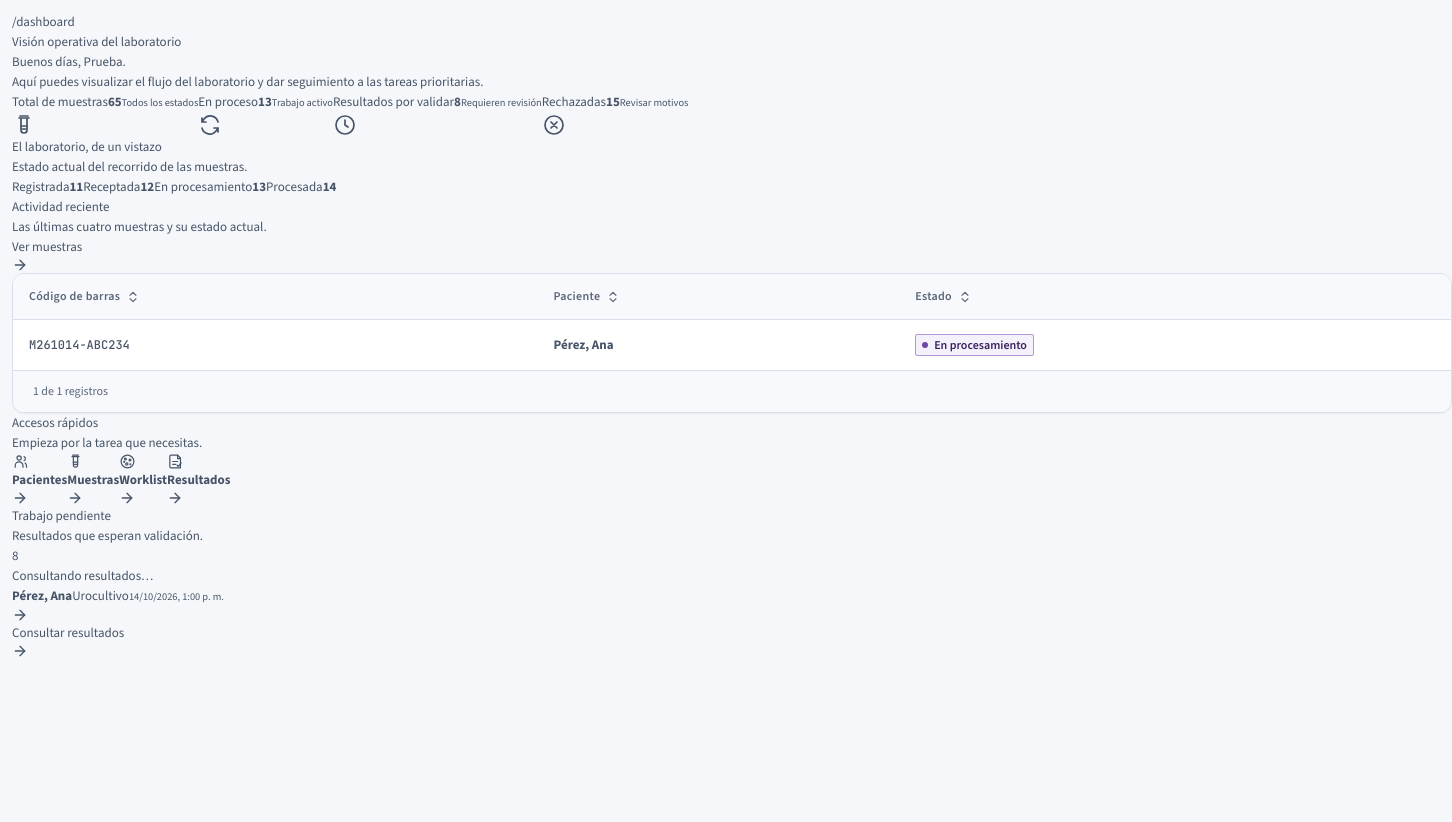
Navegación del Dashboard: ADMINISTRADOR › conserva los cinco conteos y solo permite navegar a recepción con permiso
The width and height of the screenshot is (1452, 822).
Expected: the text "15" is shown, [606,93,620,110]
Click the button "Registrada11" at (48, 187), box [12,177,83,197]
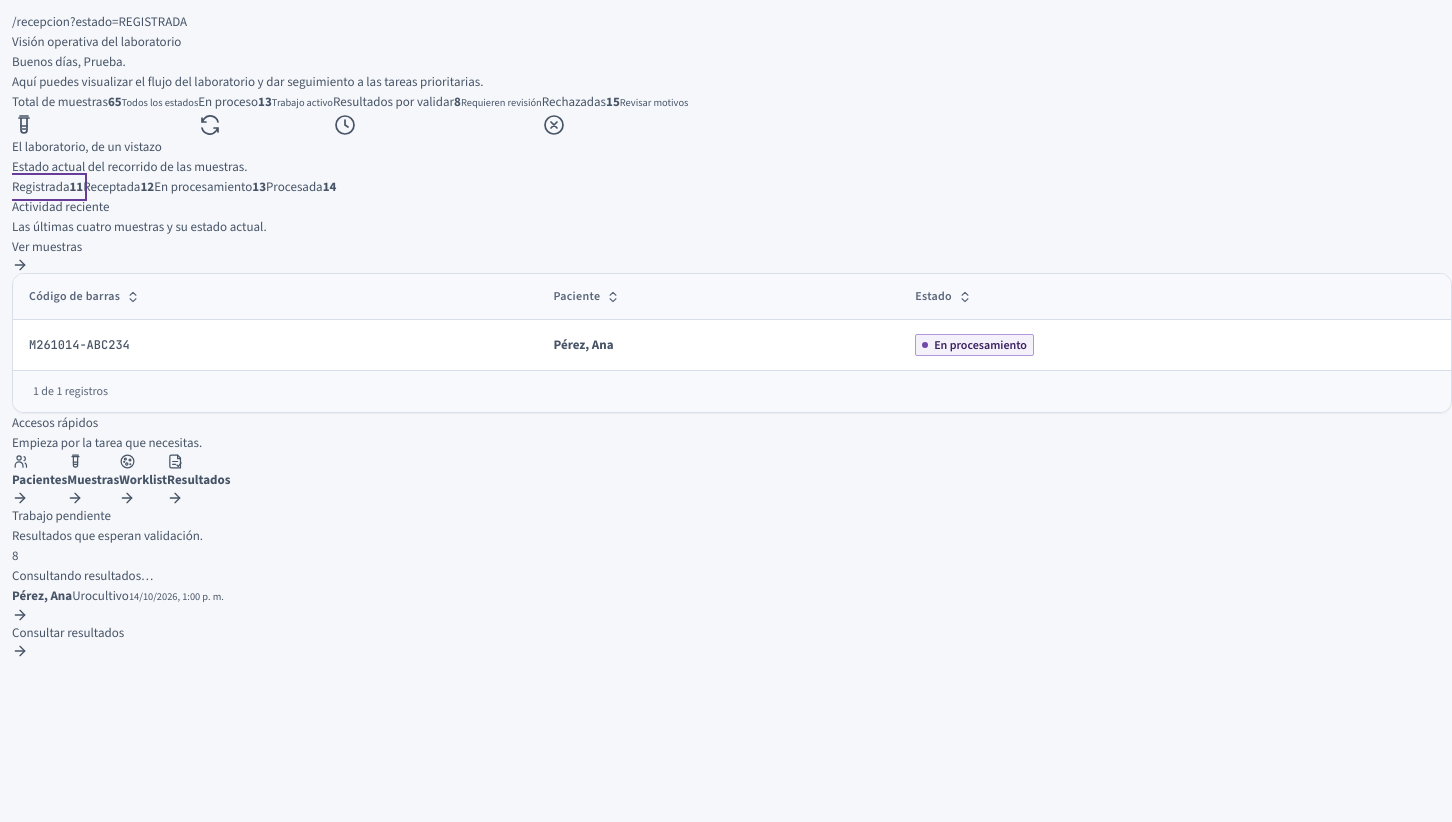
Expected: the text named "Ruta actual" reads "/recepcion?estado=REGISTRADA", [12,13,187,30]
Click the button "Receptada12" at (119, 187), box [83,177,154,197]
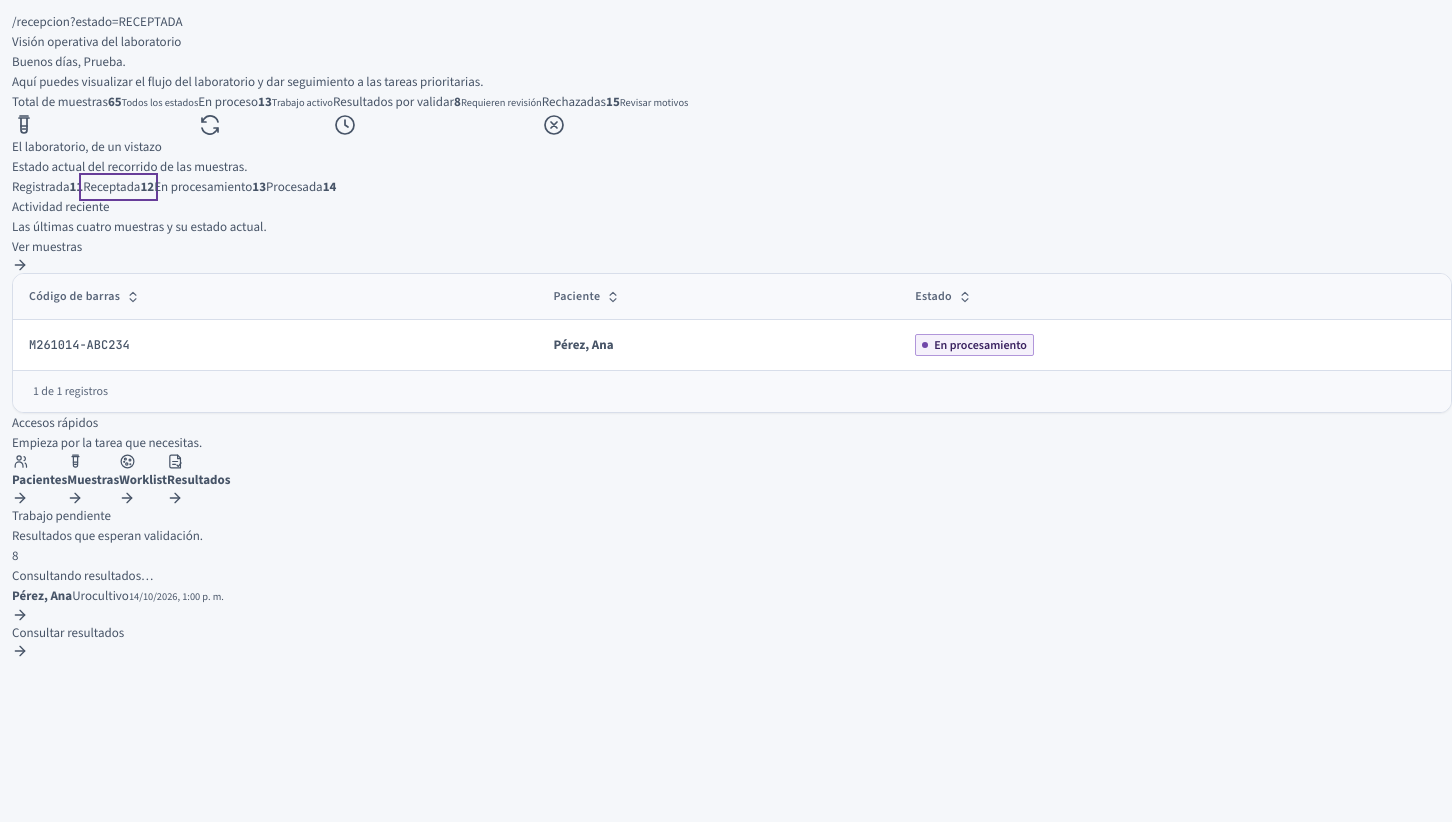
Click the button "En procesamiento13" at (210, 187), box [154,177,266,197]
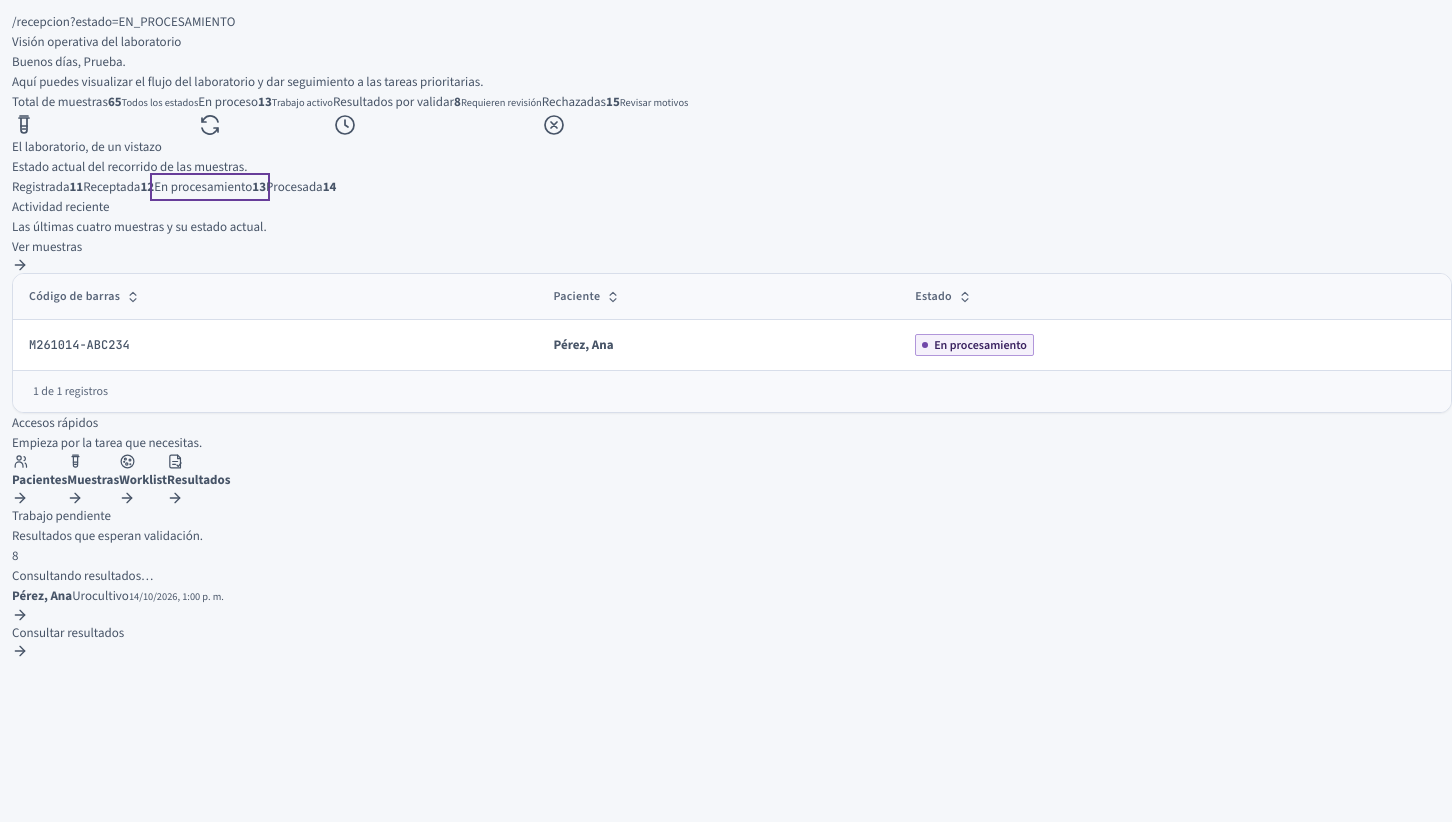
Expected: the text named "Ruta actual" reads "/recepcion?estado=EN_PROCESAMIENTO", [12,13,235,30]
Click the button "Procesada14" at (301, 187), box [266,177,336,197]
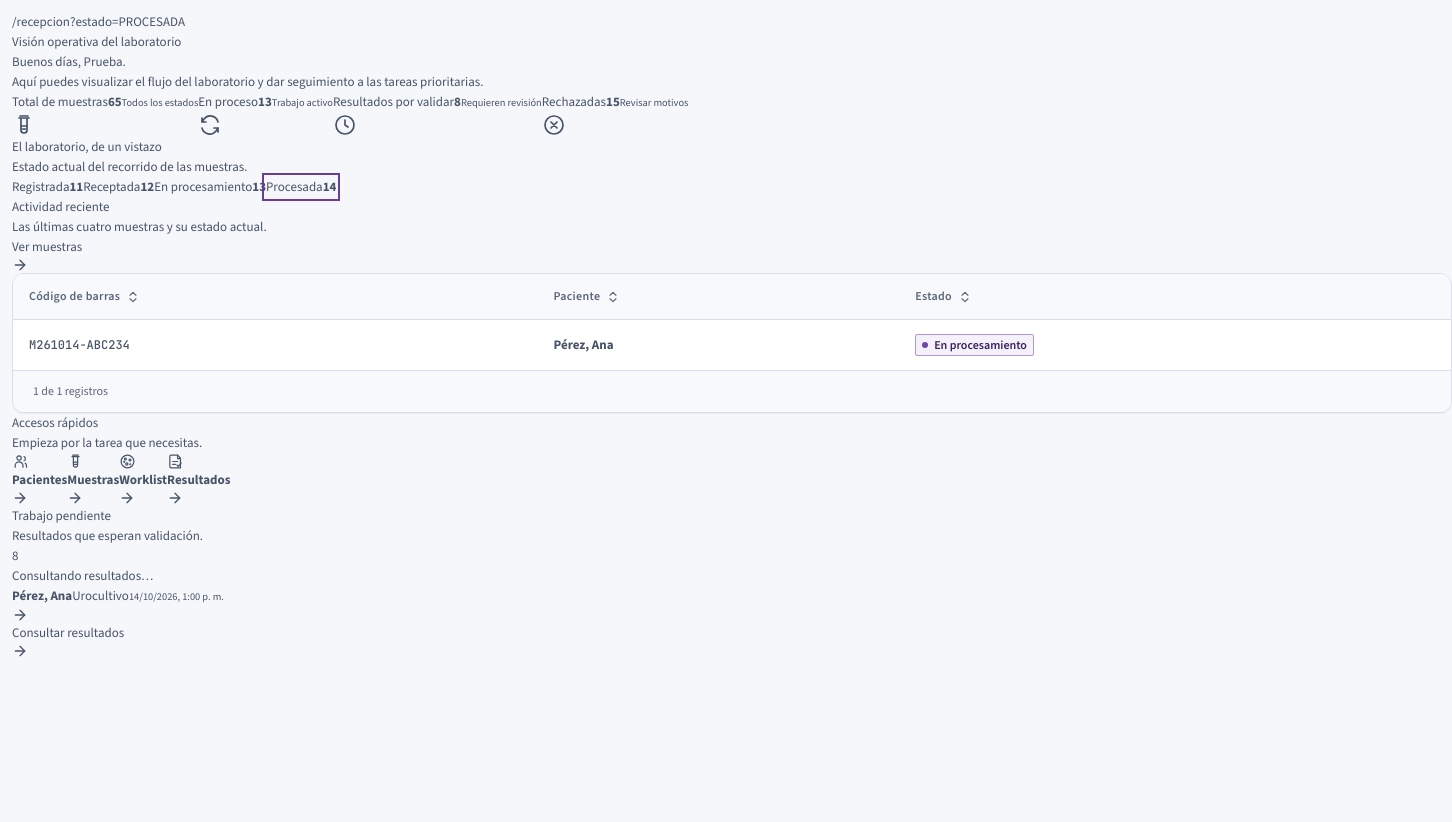
Click the button "Rechazadas15Revisar motivos" at (615, 114), box [542,92,688,137]
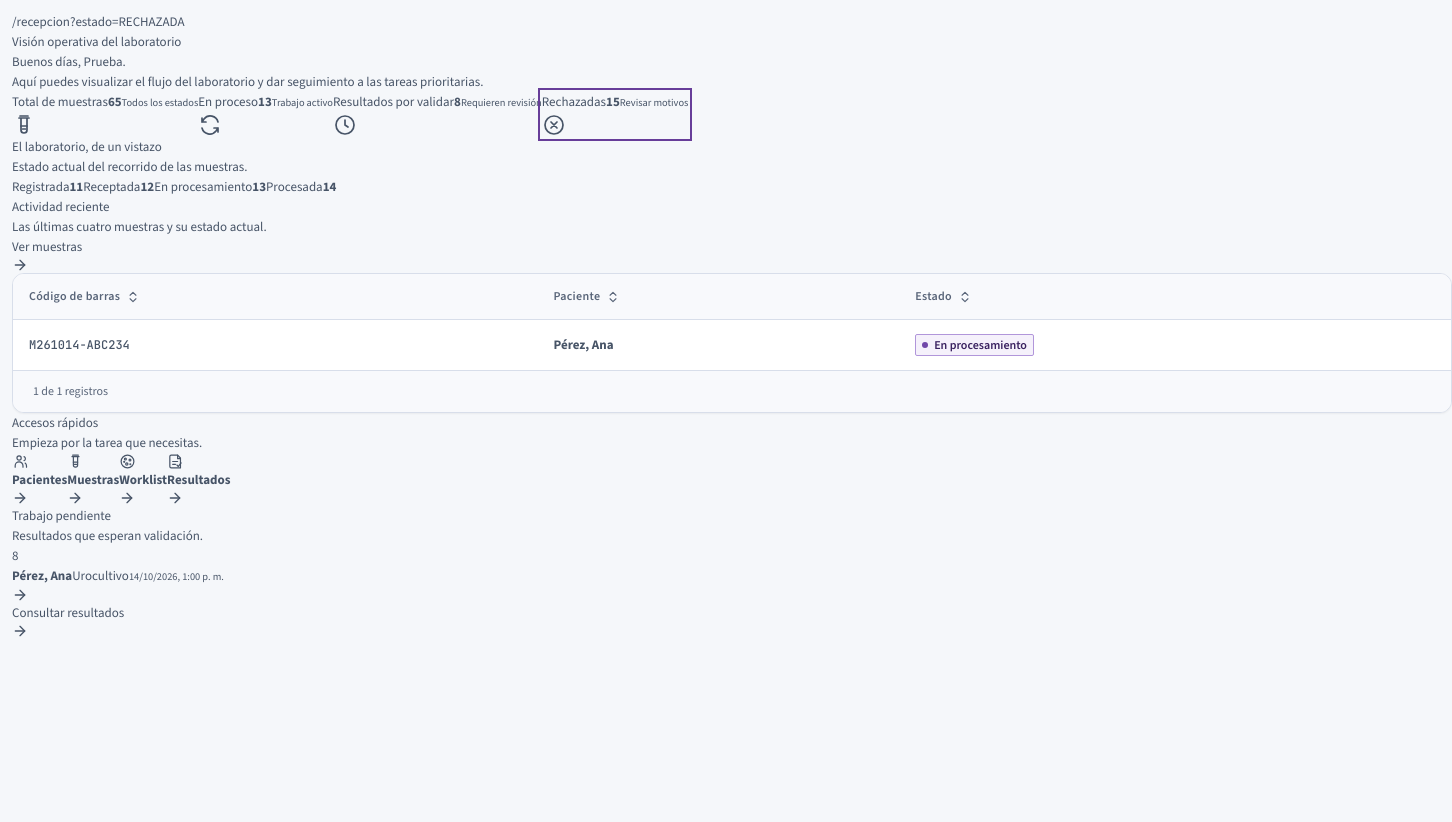
Expected: the text named "Ruta actual" reads "/recepcion?estado=RECHAZADA", [12,13,184,30]
